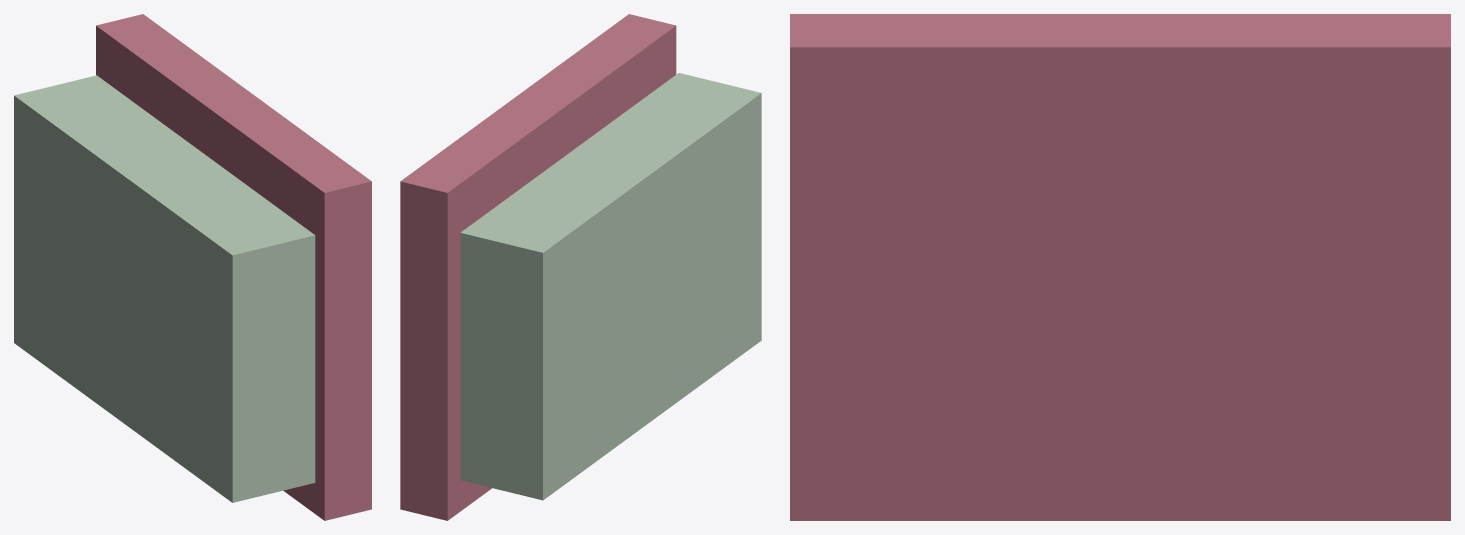
3 views of the same model, side by side, from view 1: azimuth 30°, elevation 25°; view 2: azimuth 150°, elevation 25°; view 3: azimuth 270°, elevation 25° (orthographic). The views are drawn at different scales.
Parts seen in each view (by area): view 1: world; view 2: world; view 3: world.
Boxes of the visible parts, x1,y1,x2,y2 form: world: (14, 14, 371, 520); world: (400, 14, 761, 520); world: (790, 14, 1450, 520).
Bounding box in the file's own units: 2.3 × 5.3 × 6.7.
